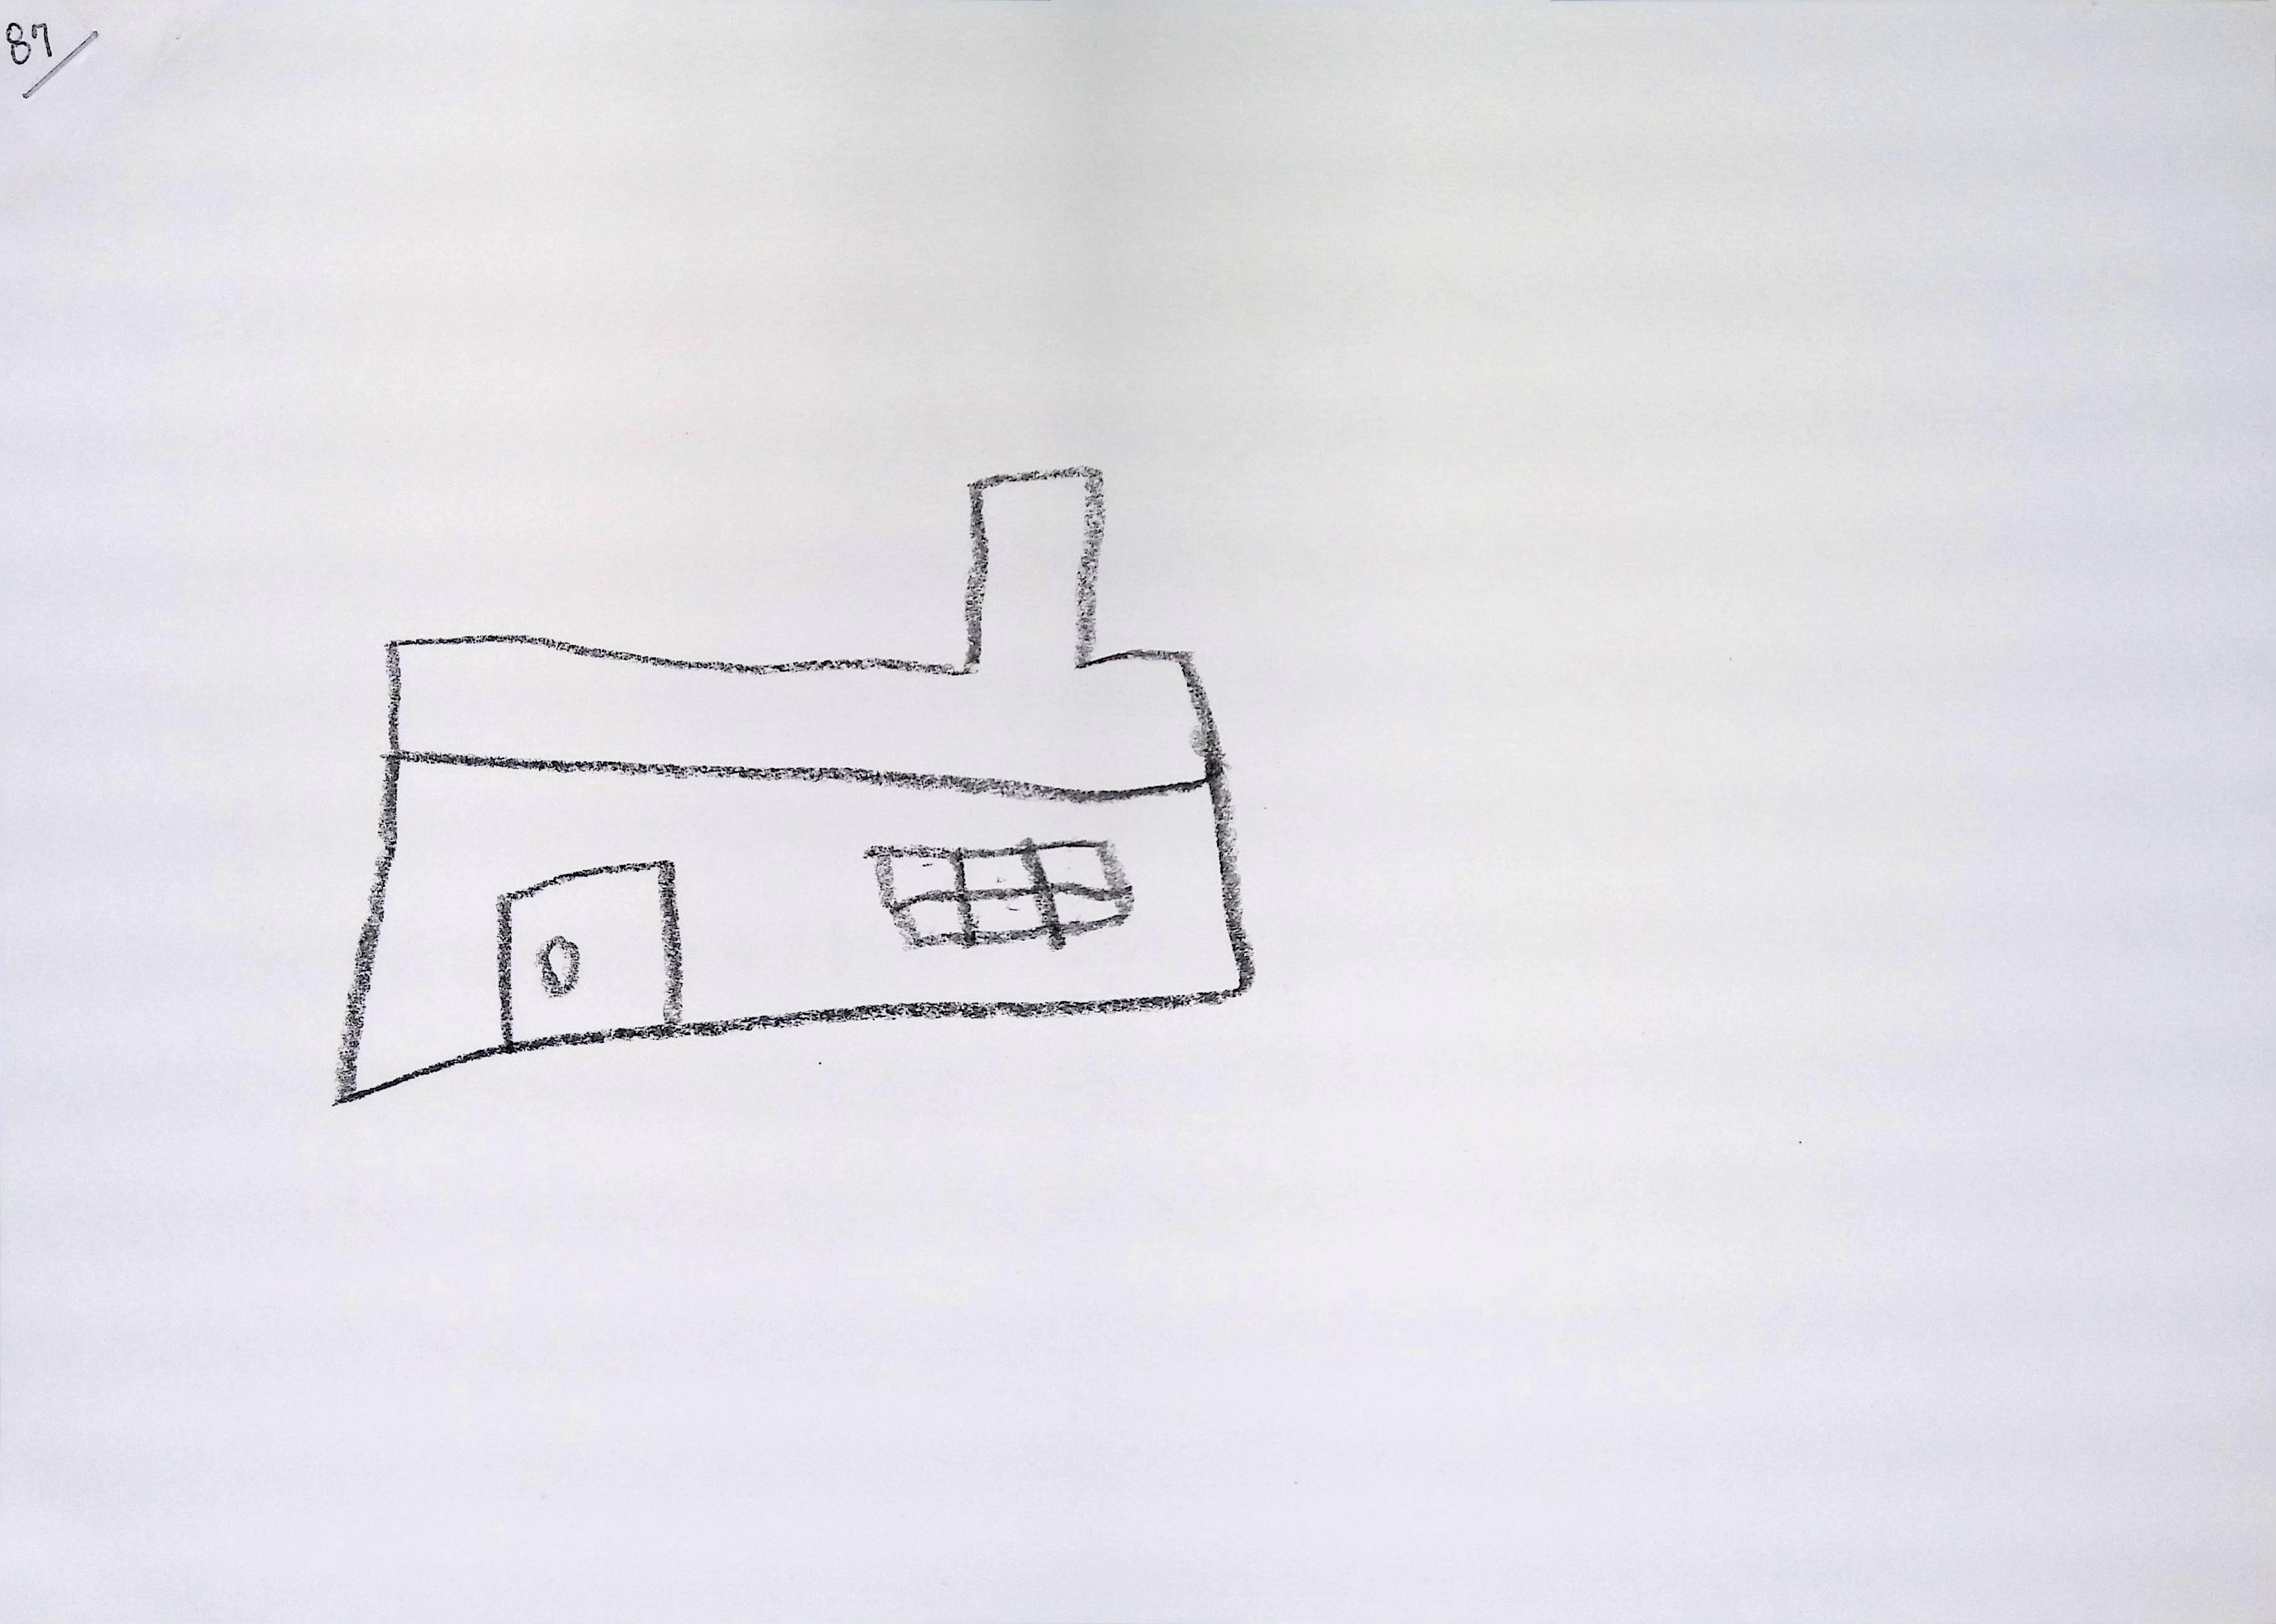chimney: (967, 468, 1104, 671)
door: (497, 856, 677, 1058)
house: (336, 468, 1255, 1102)
roof: (394, 636, 1213, 805)
wall: (332, 756, 1244, 1113)
window: (865, 833, 1135, 953)
